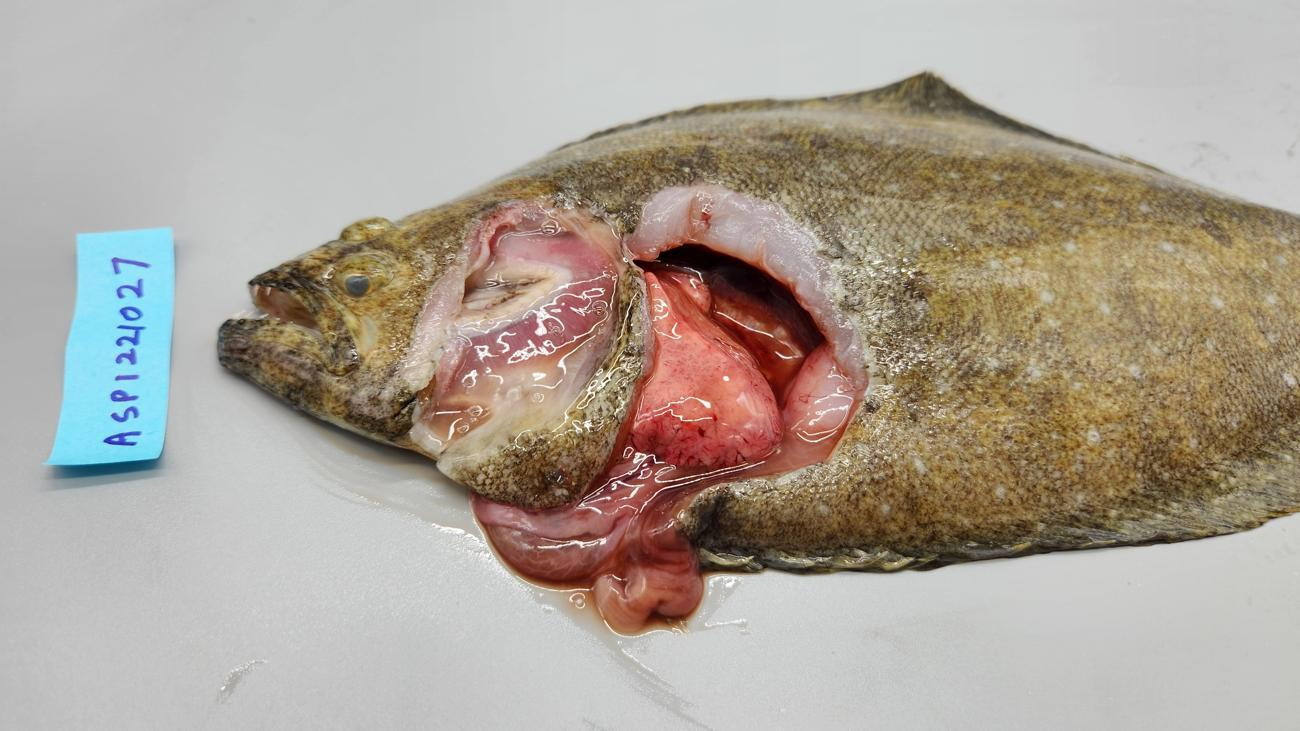SPLIC: (634, 275, 786, 465)
